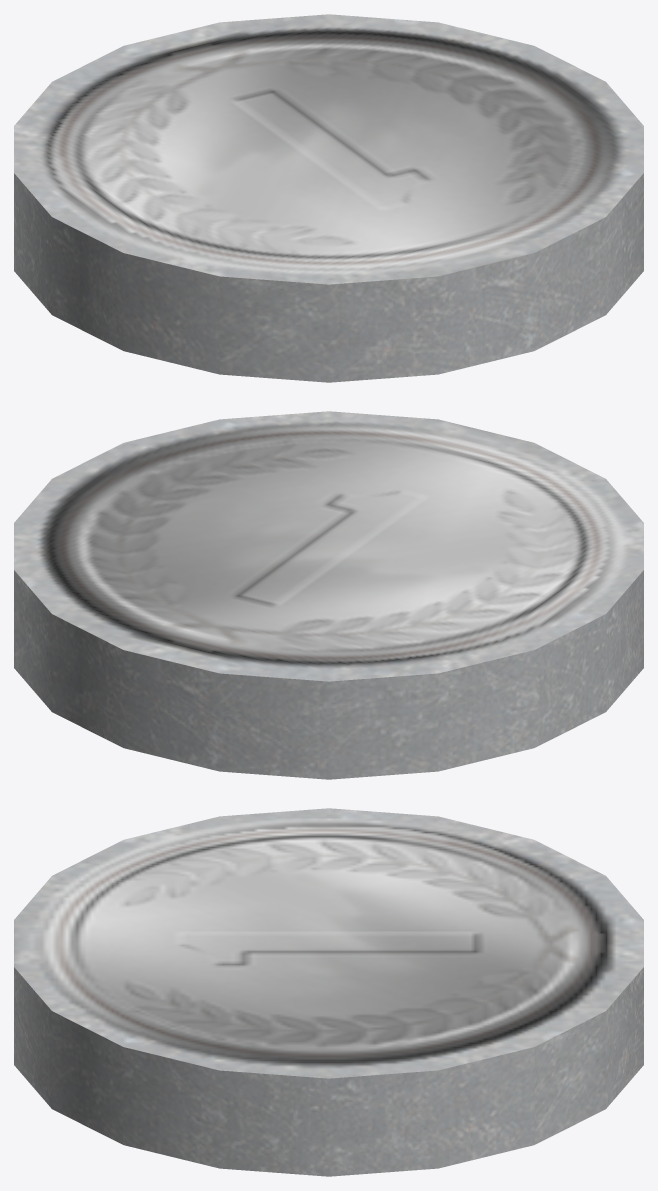
Rendered from Coin_001.FBX.
3 renders of one model, top to bottom at view 1: azimuth 30°, elevation 25°; view 2: azimuth 150°, elevation 25°; view 3: azimuth 270°, elevation 25°, orthographic.
Parts seen in each view (by area): view 1: Coin; view 2: Coin; view 3: Coin.
Part boxes in pixels (box(x1,y1,x2,y2)): Coin: box(14, 14, 643, 382); Coin: box(14, 411, 643, 779); Coin: box(14, 808, 643, 1176).
Bounding box in the file's own units: 2.25 × 0.3803 × 2.21.
1 material, 1 textured.
